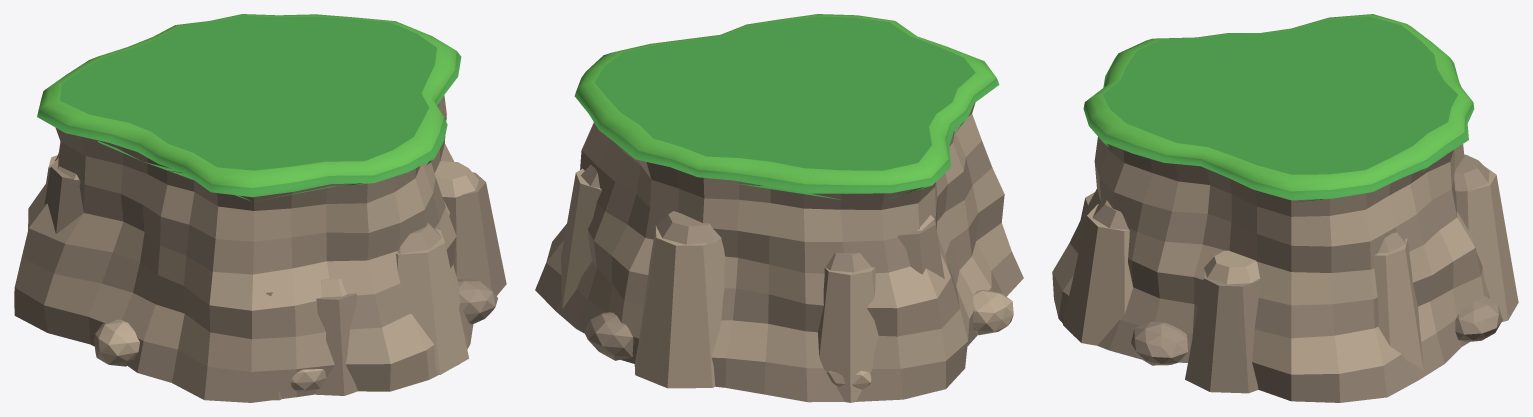
File: cliff_terrace_rock.glb
3 views of the same model, side by side, from view 1: azimuth 30°, elevation 25°; view 2: azimuth 150°, elevation 25°; view 3: azimuth 270°, elevation 25° (orthographic). The views are drawn at different scales.
Visible parts, largest first — view 1: cliff_terrace_rock; view 2: cliff_terrace_rock; view 3: cliff_terrace_rock.
Part boxes in pixels (<box>): cliff_terrace_rock: <box>14,14,506,402</box>; cliff_terrace_rock: <box>535,14,1023,402</box>; cliff_terrace_rock: <box>1052,14,1518,402</box>.
Size of the model in its own units: 12.55 by 6 by 12.4.
